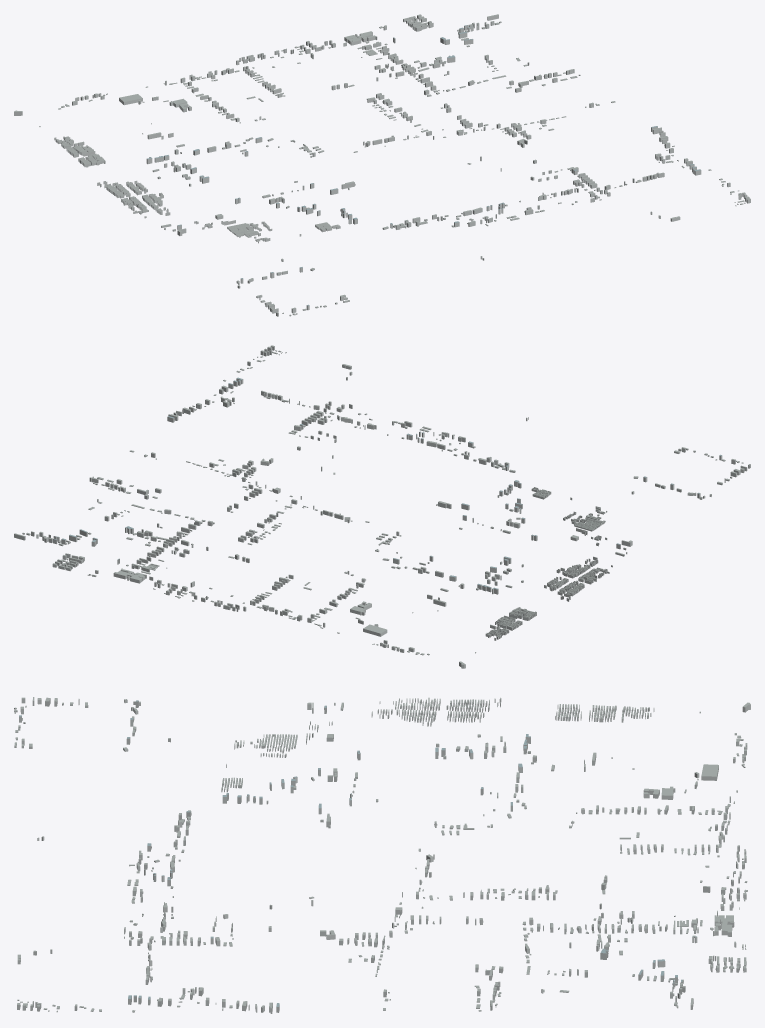
The model's file is far.glb.
3 renders of one model, top to bottom at view 1: azimuth 30°, elevation 25°; view 2: azimuth 150°, elevation 25°; view 3: azimuth 270°, elevation 25°, orthographic. The views are drawn at different scales.
Size of the model in its own units: 2106 by 22.1 by 2093.
